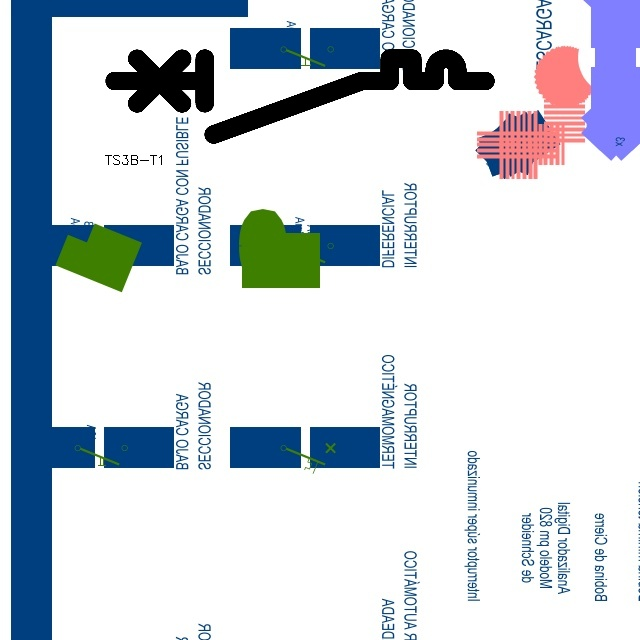interruptor_termomagnetico: (105, 49, 495, 144)
